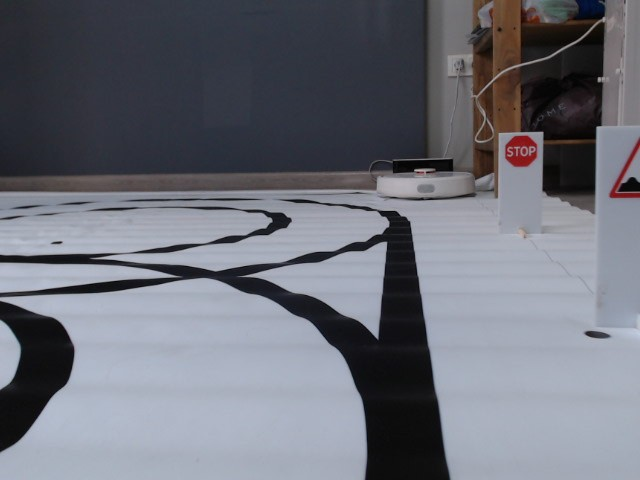Stop: (503, 134, 538, 168)
